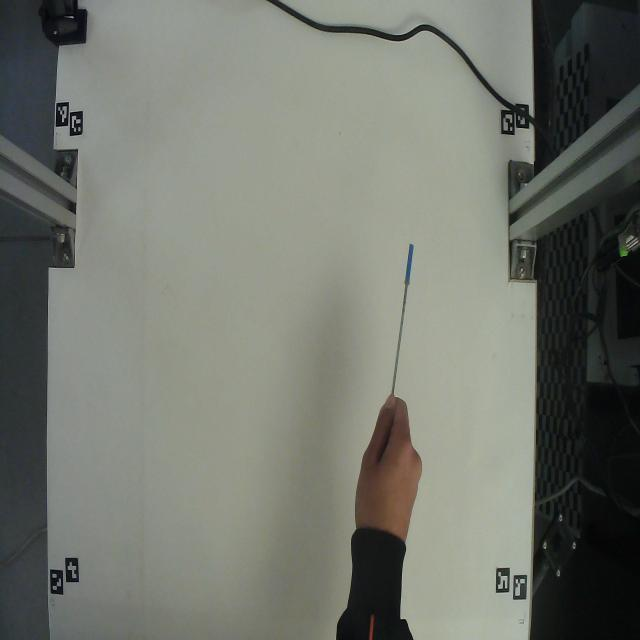NoPres: (369, 220, 432, 410)
